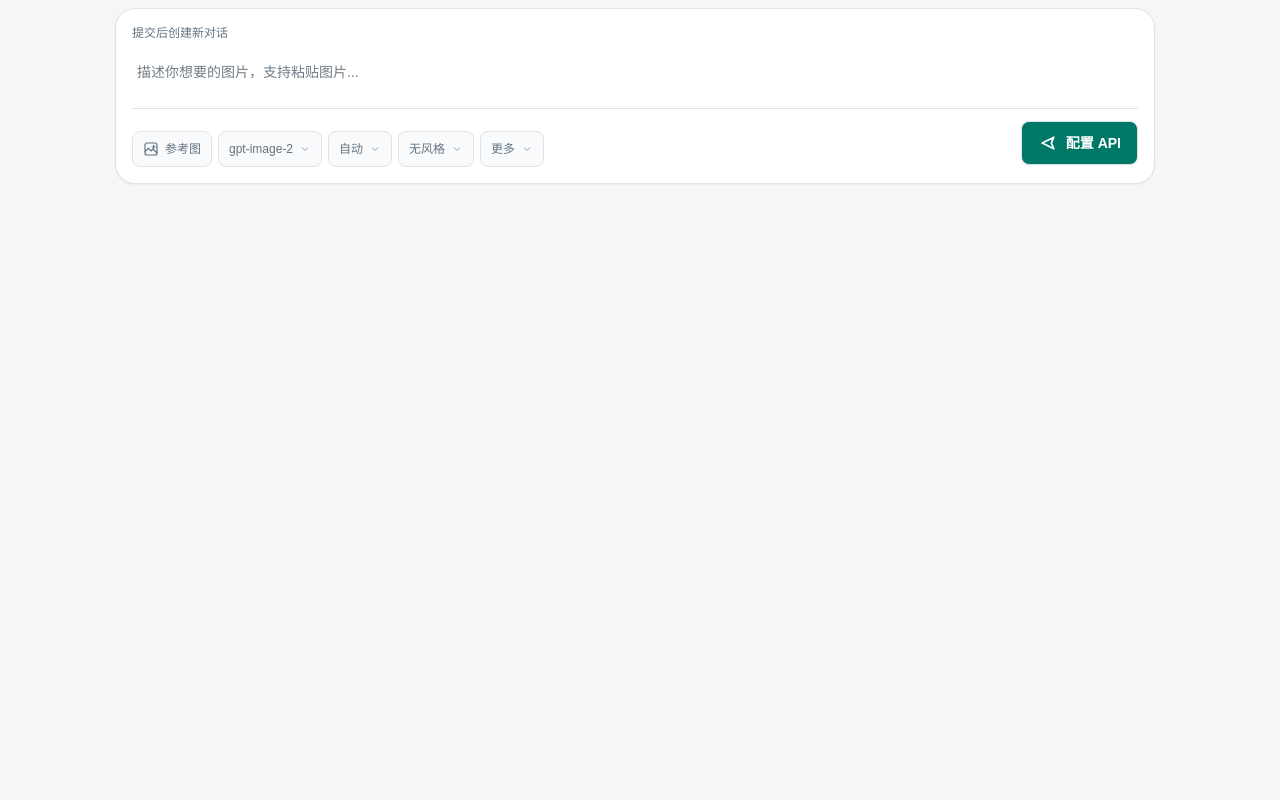
Test case: InputBar › 尺寸入口同时提供比例和分辨率并复用原尺寸弹窗
Click the button with aria-label "尺寸：". click: (360, 149)
box: [328,131,392,167]
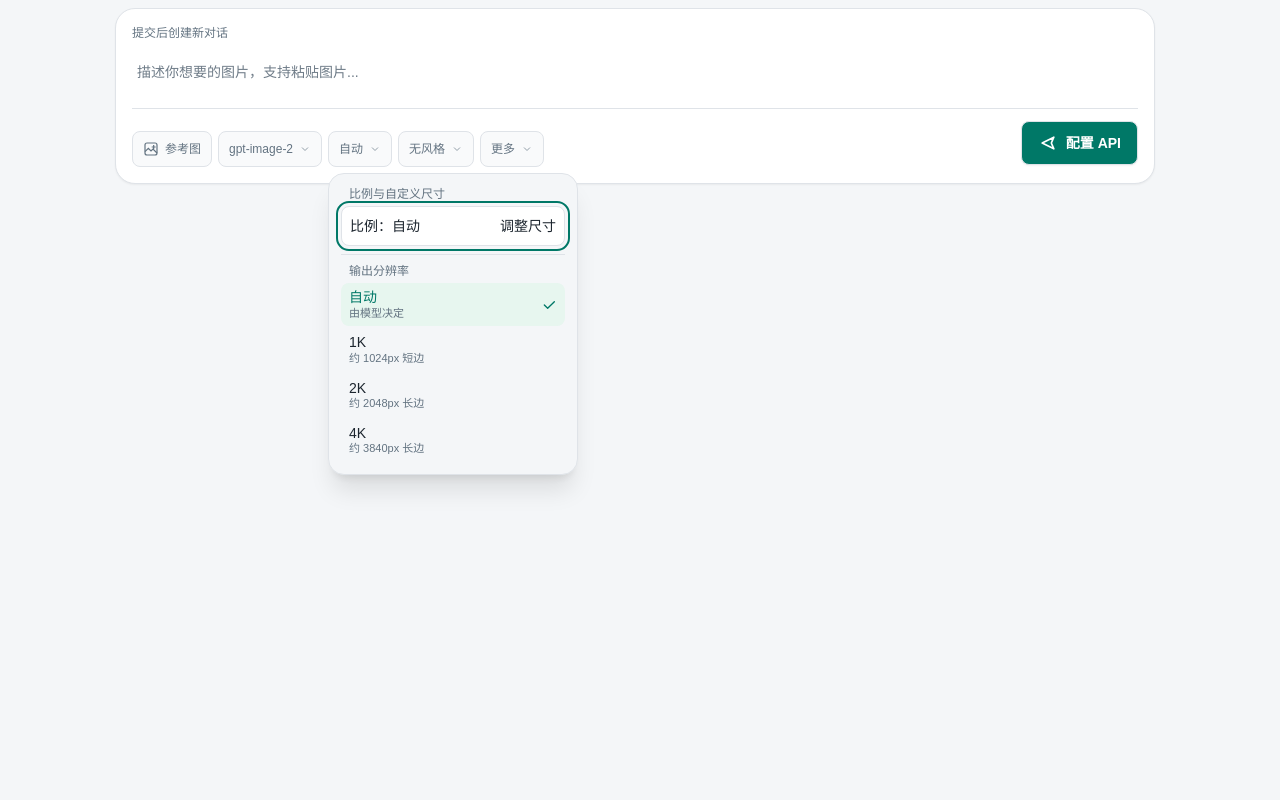
Check: the text "输出分辨率" is shown, box [349,264,409,278]
Check: the button "2K 约 2048px 长边" is shown, box [341,374,565,417]
Click the button "比例：自动 调整尺寸". click: (453, 226)
box: [341,206,565,246]
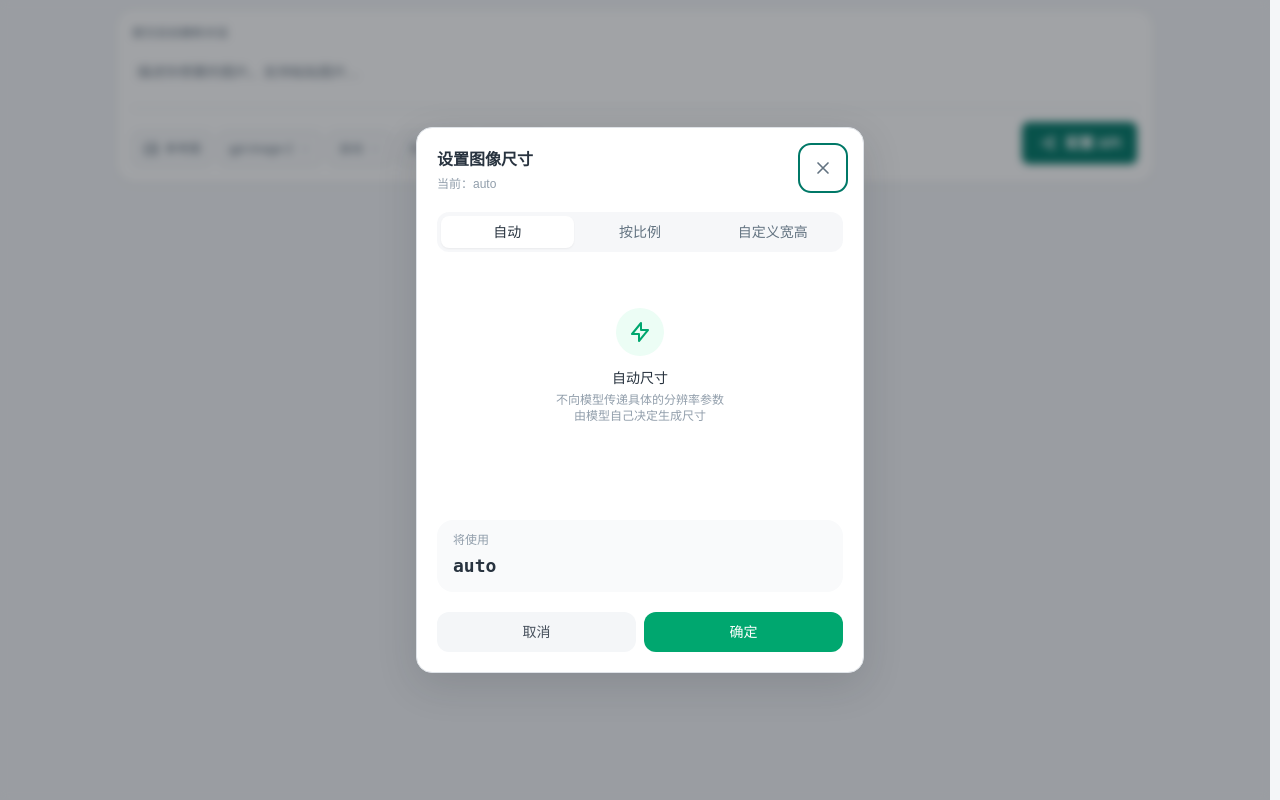
Check: the dialog "选择输出分辨率" is gone
Check: the number of dialogs is 1, box [416,127,864,673]
